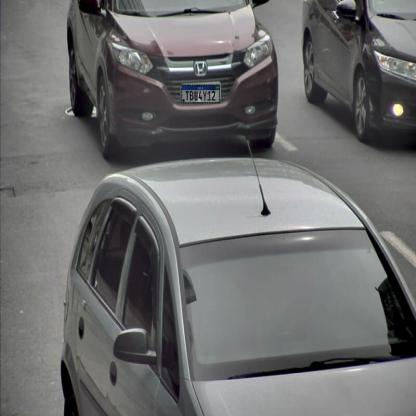PlacaM: (181, 85, 220, 103)
